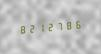eight: (17, 22, 25, 36), (62, 18, 70, 32)
one: (35, 21, 43, 34)
seven: (53, 19, 61, 32)
six: (71, 18, 79, 31)
two: (26, 22, 34, 35), (44, 20, 52, 33)
